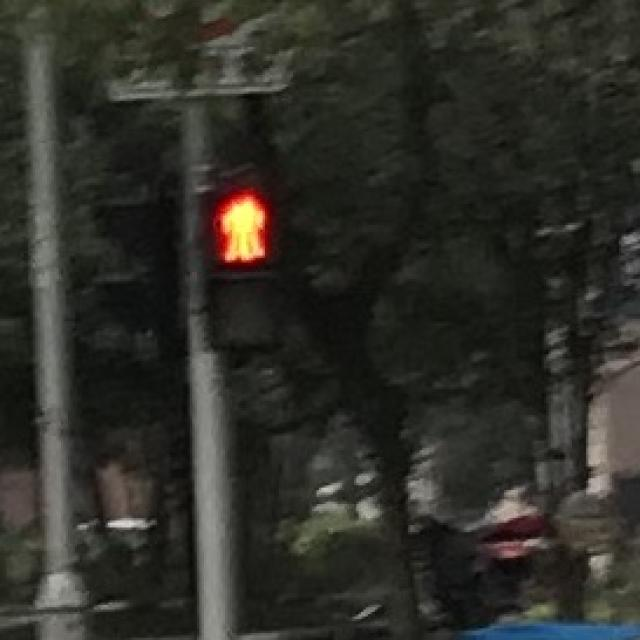red_light: (199, 188, 277, 262)
